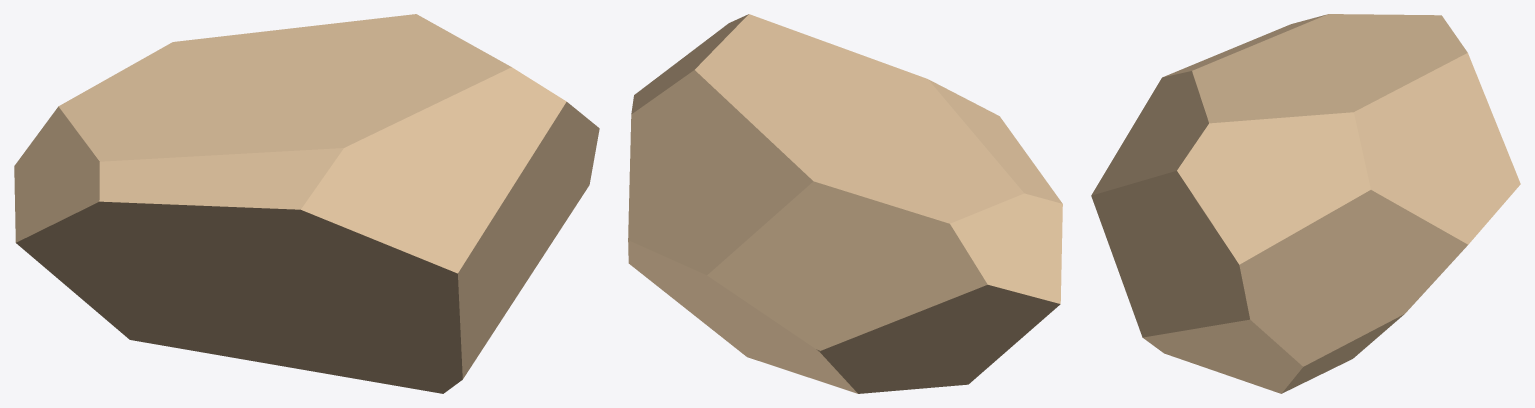
Rendered from nature_stone-diamond.fbx.
3 renders of one model, left to right at view 1: azimuth 30°, elevation 25°; view 2: azimuth 150°, elevation 25°; view 3: azimuth 270°, elevation 25°, orthographic. The views are drawn at different scales.
Visible parts, largest first — view 1: nature_stone_diamond; view 2: nature_stone_diamond; view 3: nature_stone_diamond.
Boxes of the visible parts, bbox=[...] form: nature_stone_diamond: bbox=[14, 14, 599, 393]; nature_stone_diamond: bbox=[628, 14, 1062, 393]; nature_stone_diamond: bbox=[1091, 14, 1520, 393].
Size of the model in its own units: 200 by 111 by 152.
